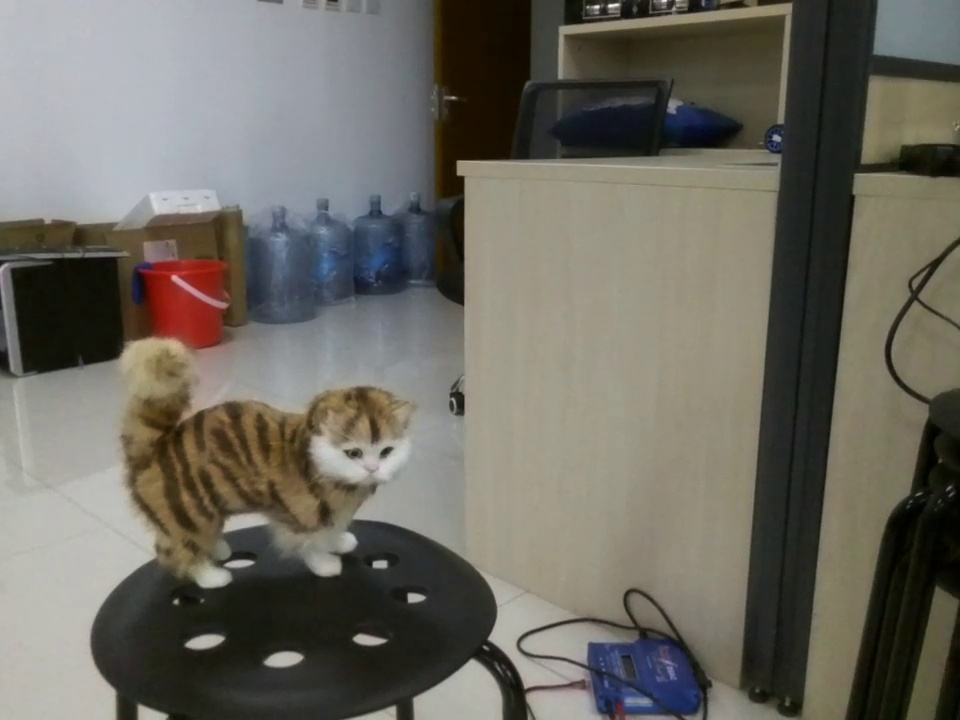cat: (111, 345, 414, 593)
